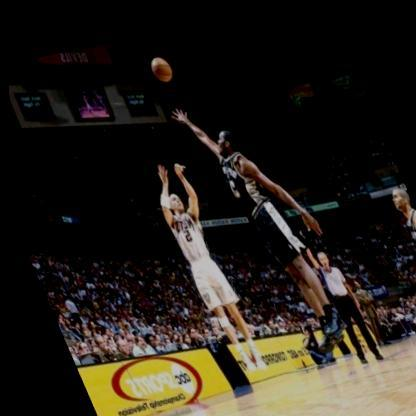basketball: (145, 46, 176, 81)
